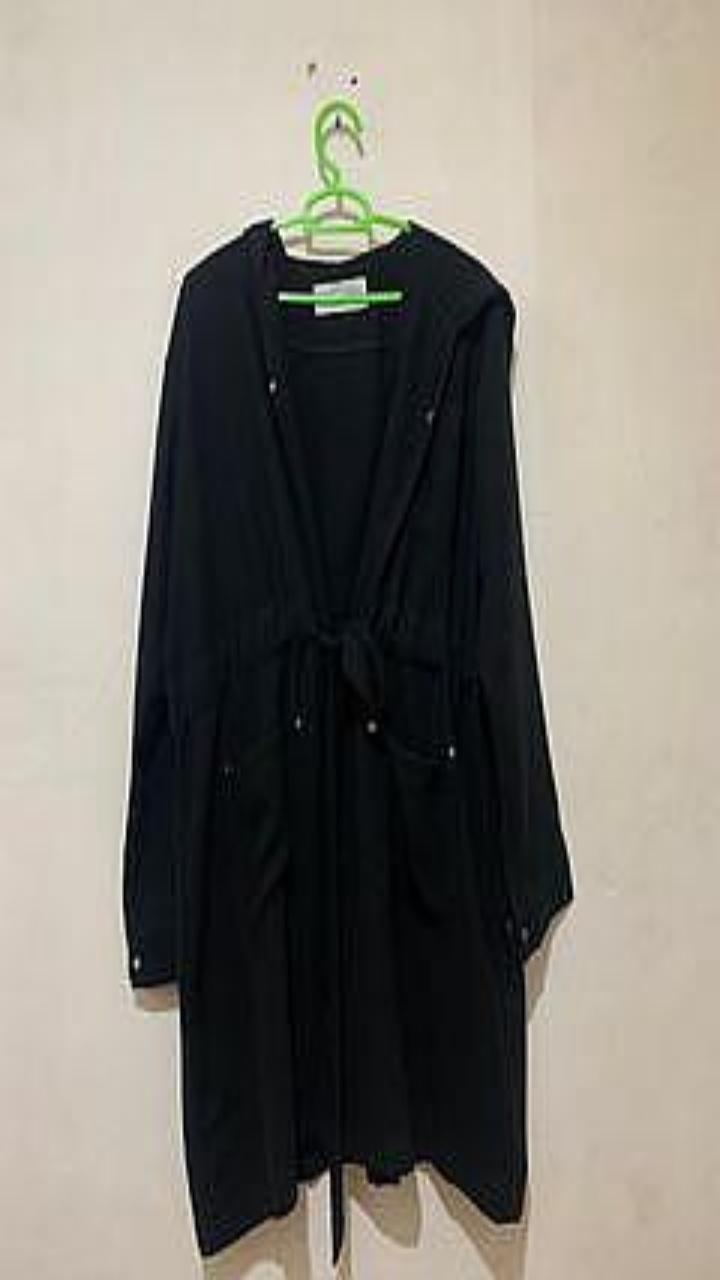Coat: (123, 218, 573, 1262)
